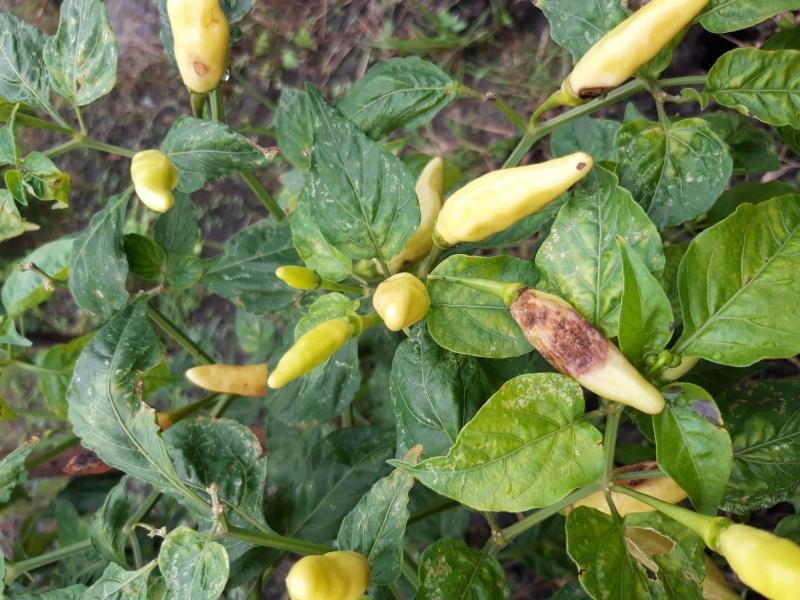antraknosa: (506, 280, 669, 417), (562, 1, 712, 109), (438, 146, 594, 246), (160, 1, 230, 93)
cabai_normal: (267, 313, 353, 390), (393, 155, 445, 262), (286, 551, 373, 600), (372, 272, 433, 331), (131, 148, 181, 214), (185, 361, 269, 397), (273, 264, 320, 295)
